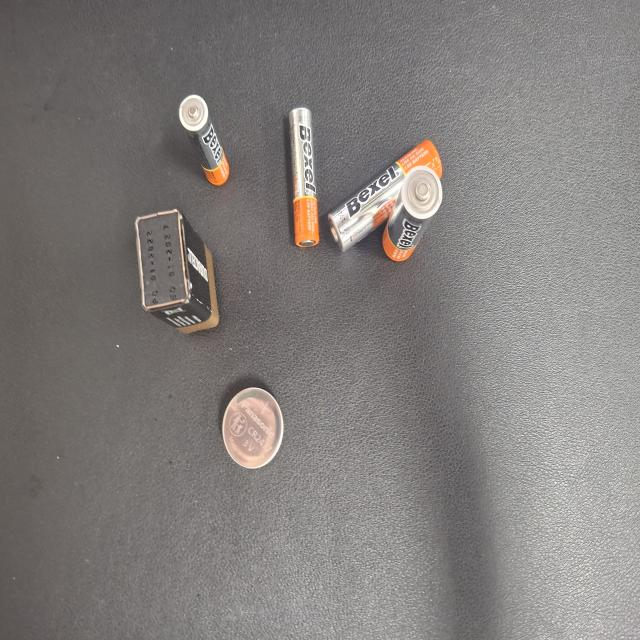9V: (230, 180, 323, 292)
AA: (291, 438, 374, 589), (284, 511, 355, 590)
AAA: (341, 238, 409, 306), (294, 386, 399, 426)
COIN: (129, 297, 189, 377)
